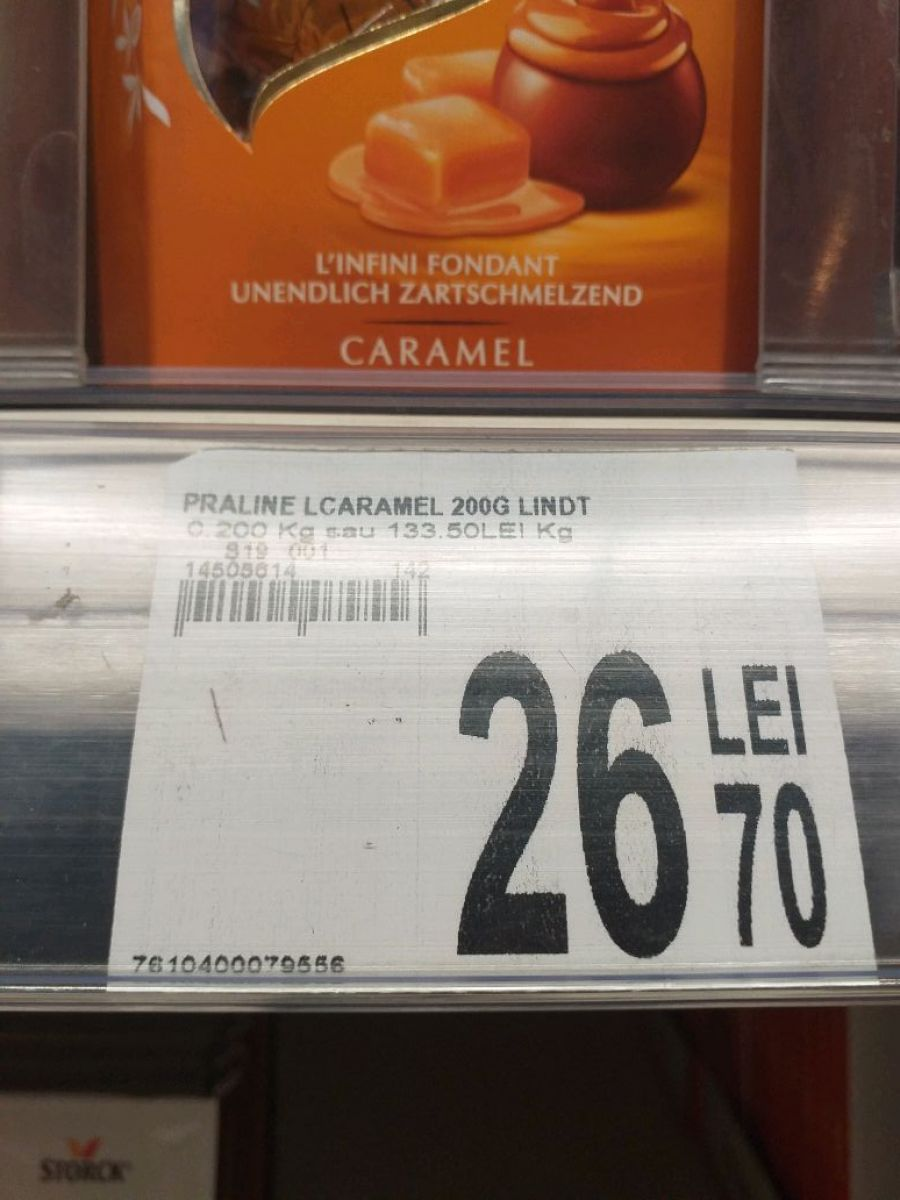price_bani: (703, 769, 850, 969)
price_lei: (432, 637, 704, 974)
price_tag: (79, 414, 891, 1032)
product_id: (117, 943, 363, 982)
product_name: (174, 481, 607, 520)
